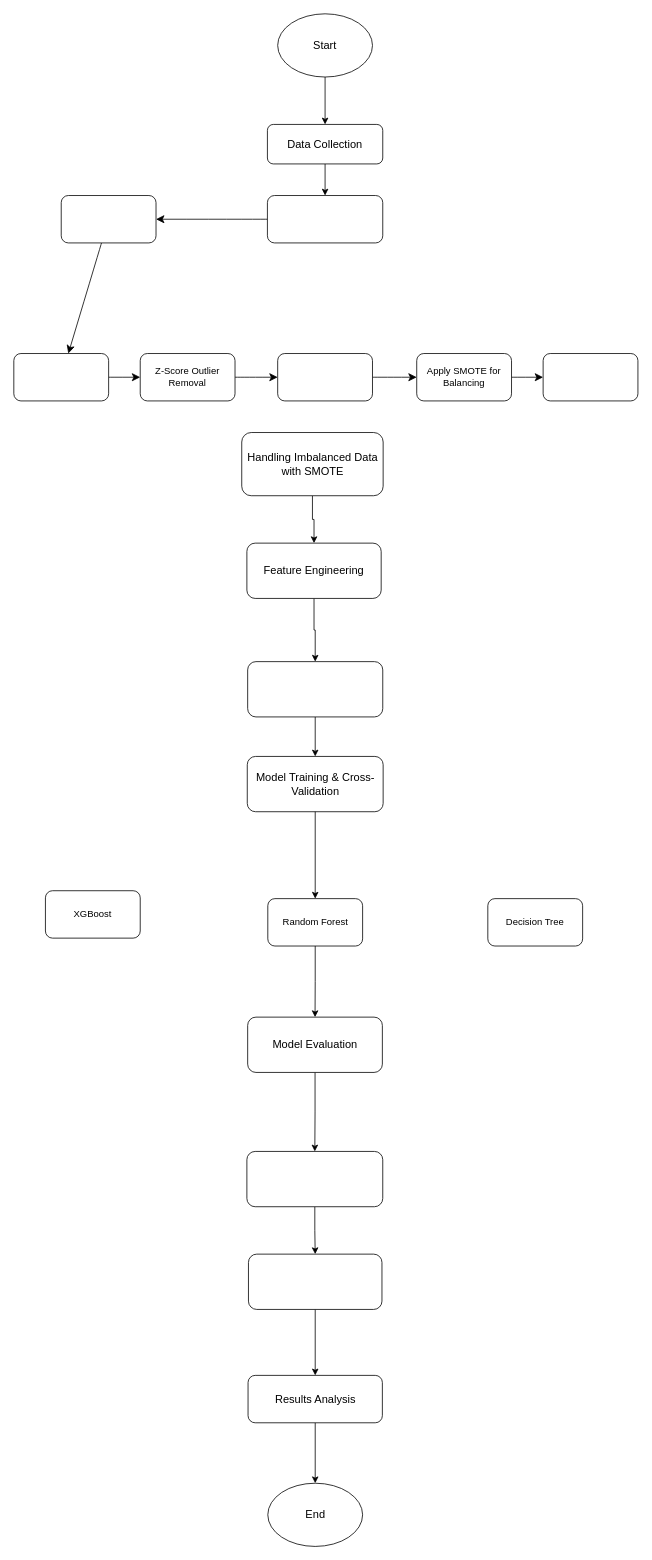
Image size: 652x1560. Some labels were removed from this diagram. The centre of each missing label's shape, as x and y in pixels:
"Data Preprocessing" goes at point 325,219.
"Drop Unnecessary Columns" goes at point 590,377.
"Feature and Target Separation" goes at point 324,377.
"Final Model Selection" goes at point 315,1281.
"Hyperparameter Tuning" goes at point 314,1179.
"Model Selection" goes at point 315,689.
"Remove Target Column" goes at point 61,377.
